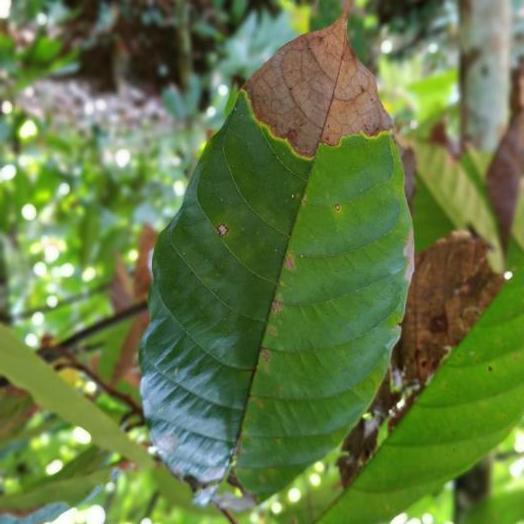Potassium: (140, 16, 412, 501)
